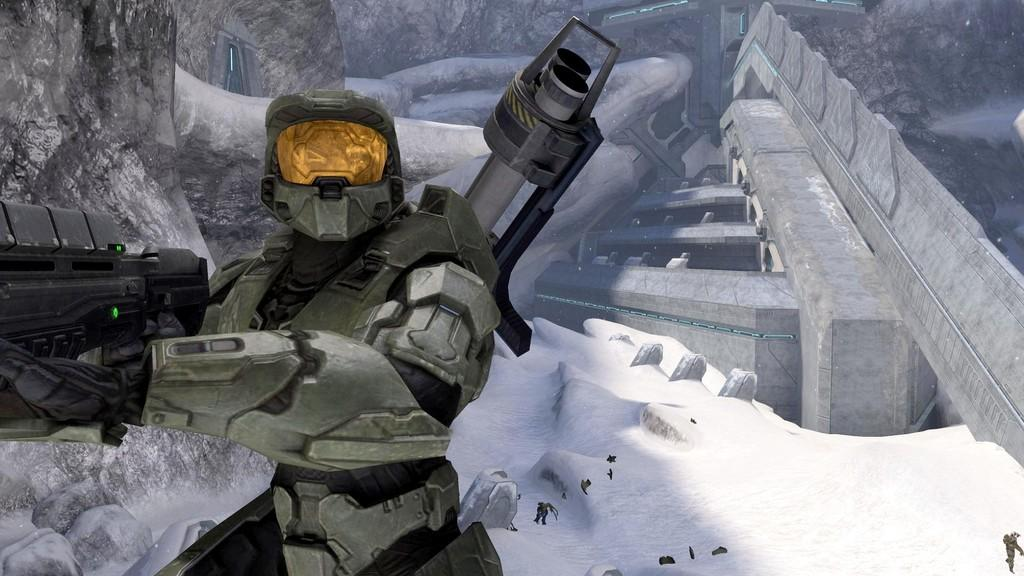Shotgun: (0, 194, 209, 357)
